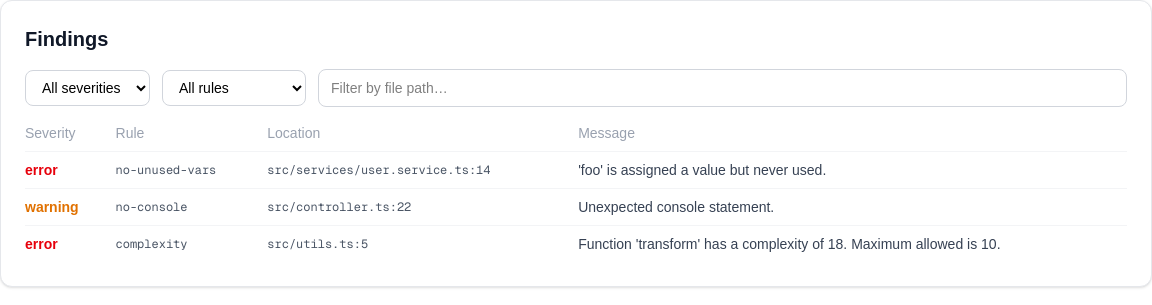
Test: FindingsExplorer › shows a no-match message when filters exclude every finding
Type "nonexistent-file" into the field with placeholder "Filter by file path…".
click(722, 88); type("nonexistent-file")  # box [318,69,1127,107]
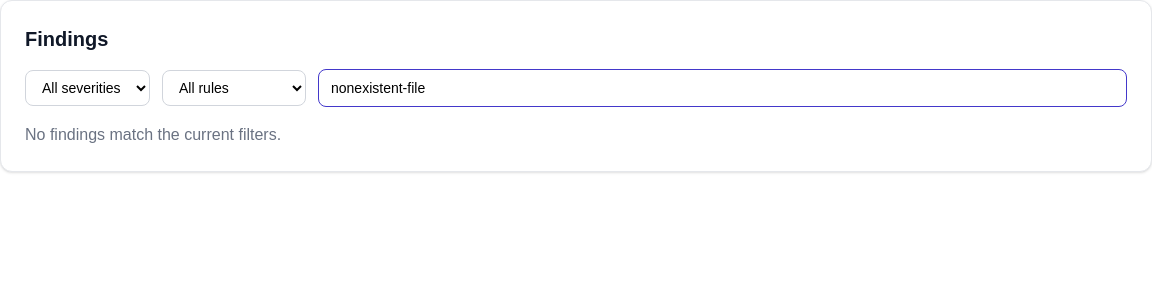
Now the text "No findings match the current filters." is shown, box [25,126,281,143]
